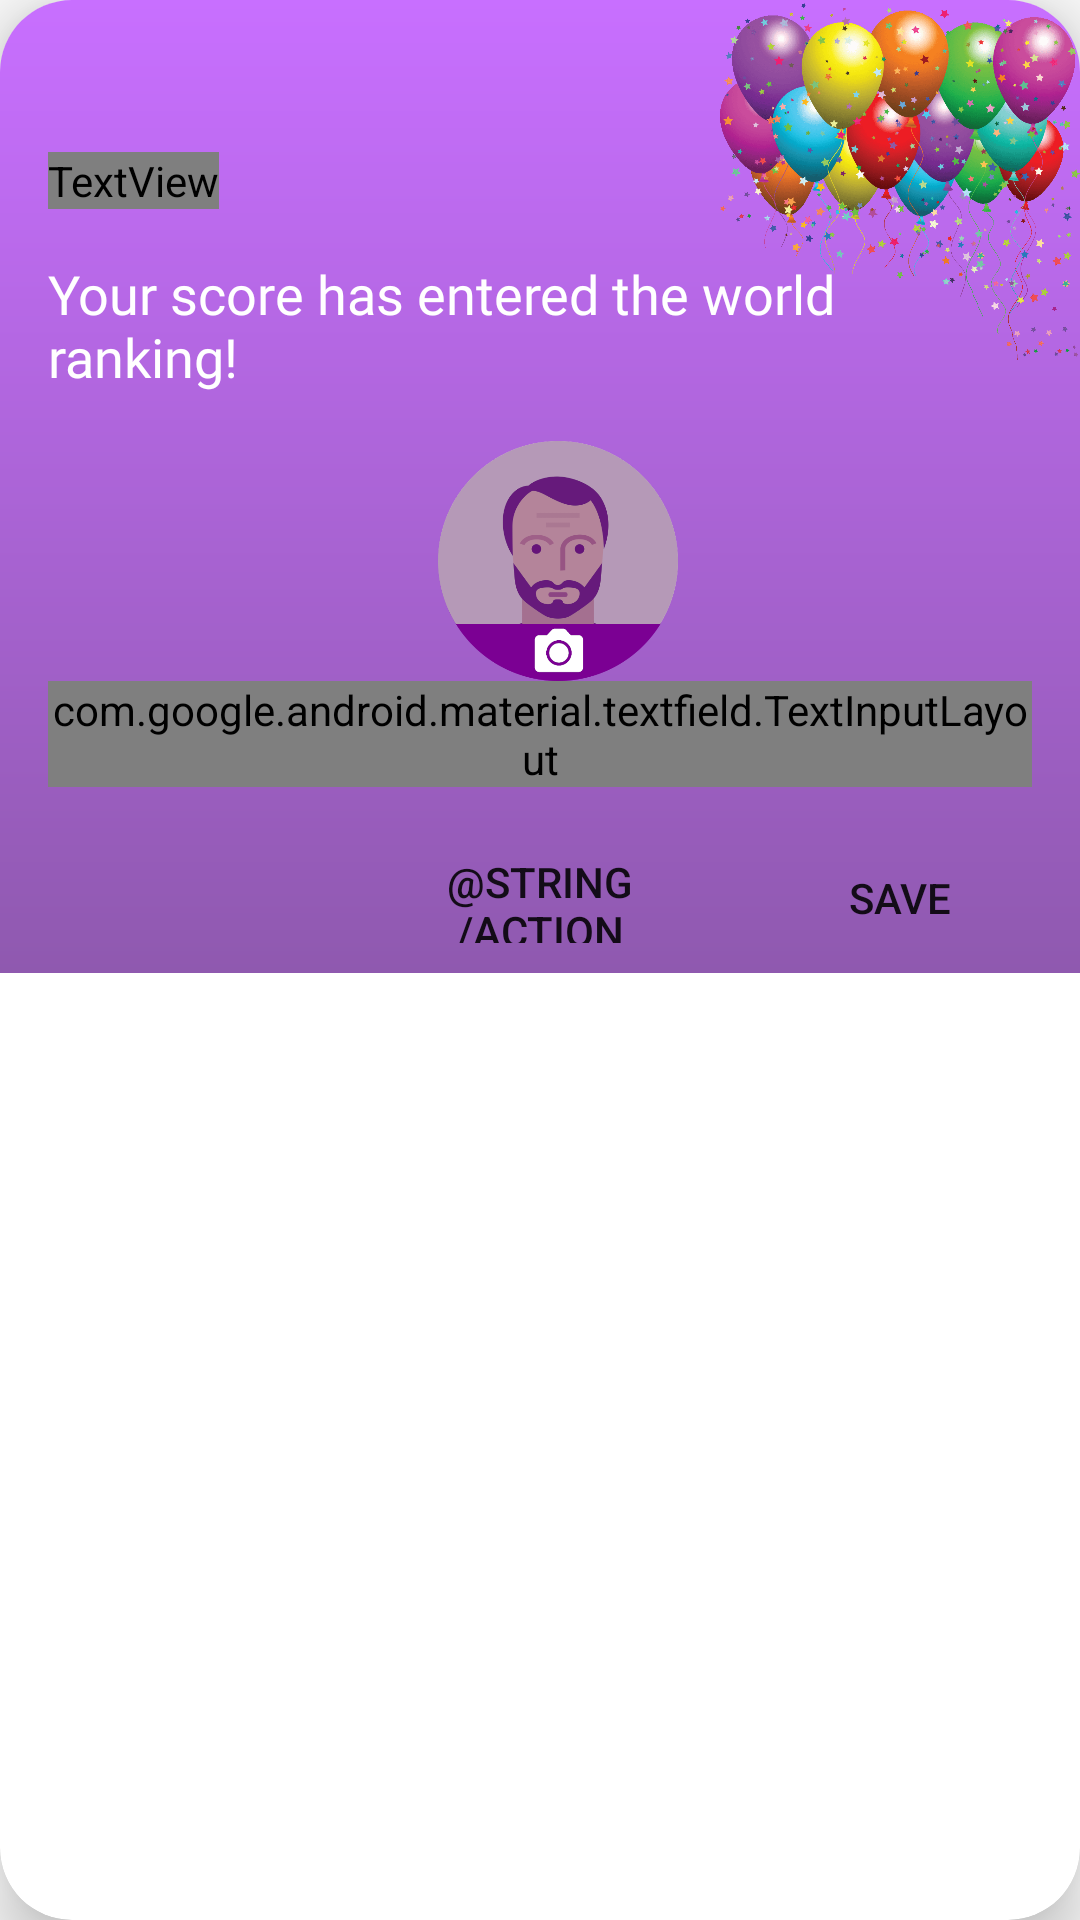

Screen size 1080w x 1920h. Icon name, then its box in pixels as (x1, y1, x2, y2):
man: (438, 441, 678, 681)
